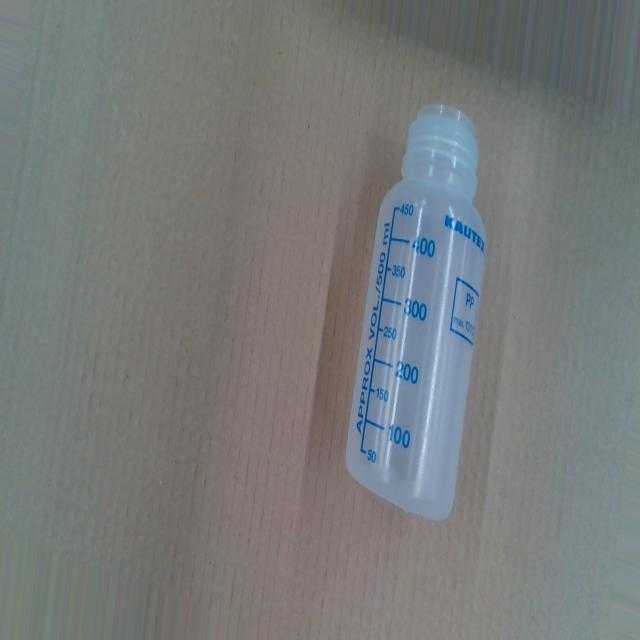bottle: (343, 100, 485, 523)
